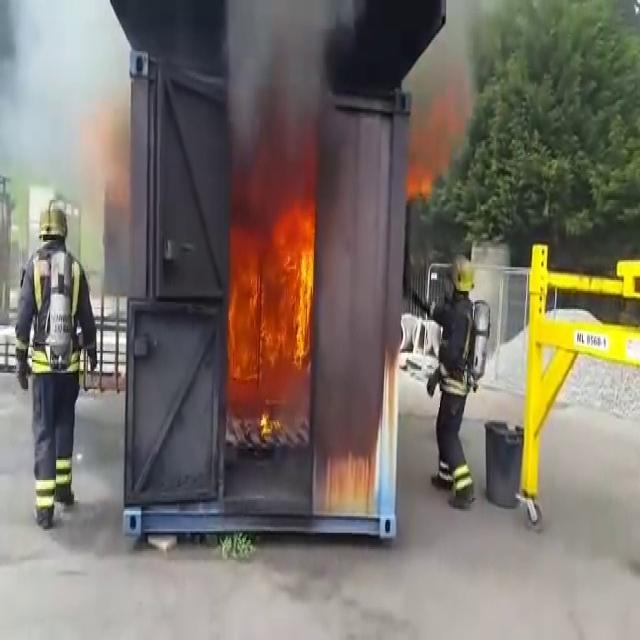Fire: (238, 176, 320, 426)
Smoke: (235, 0, 345, 95)
